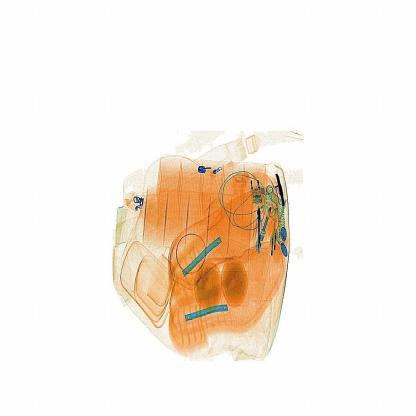wrench: (246, 202, 266, 258)
